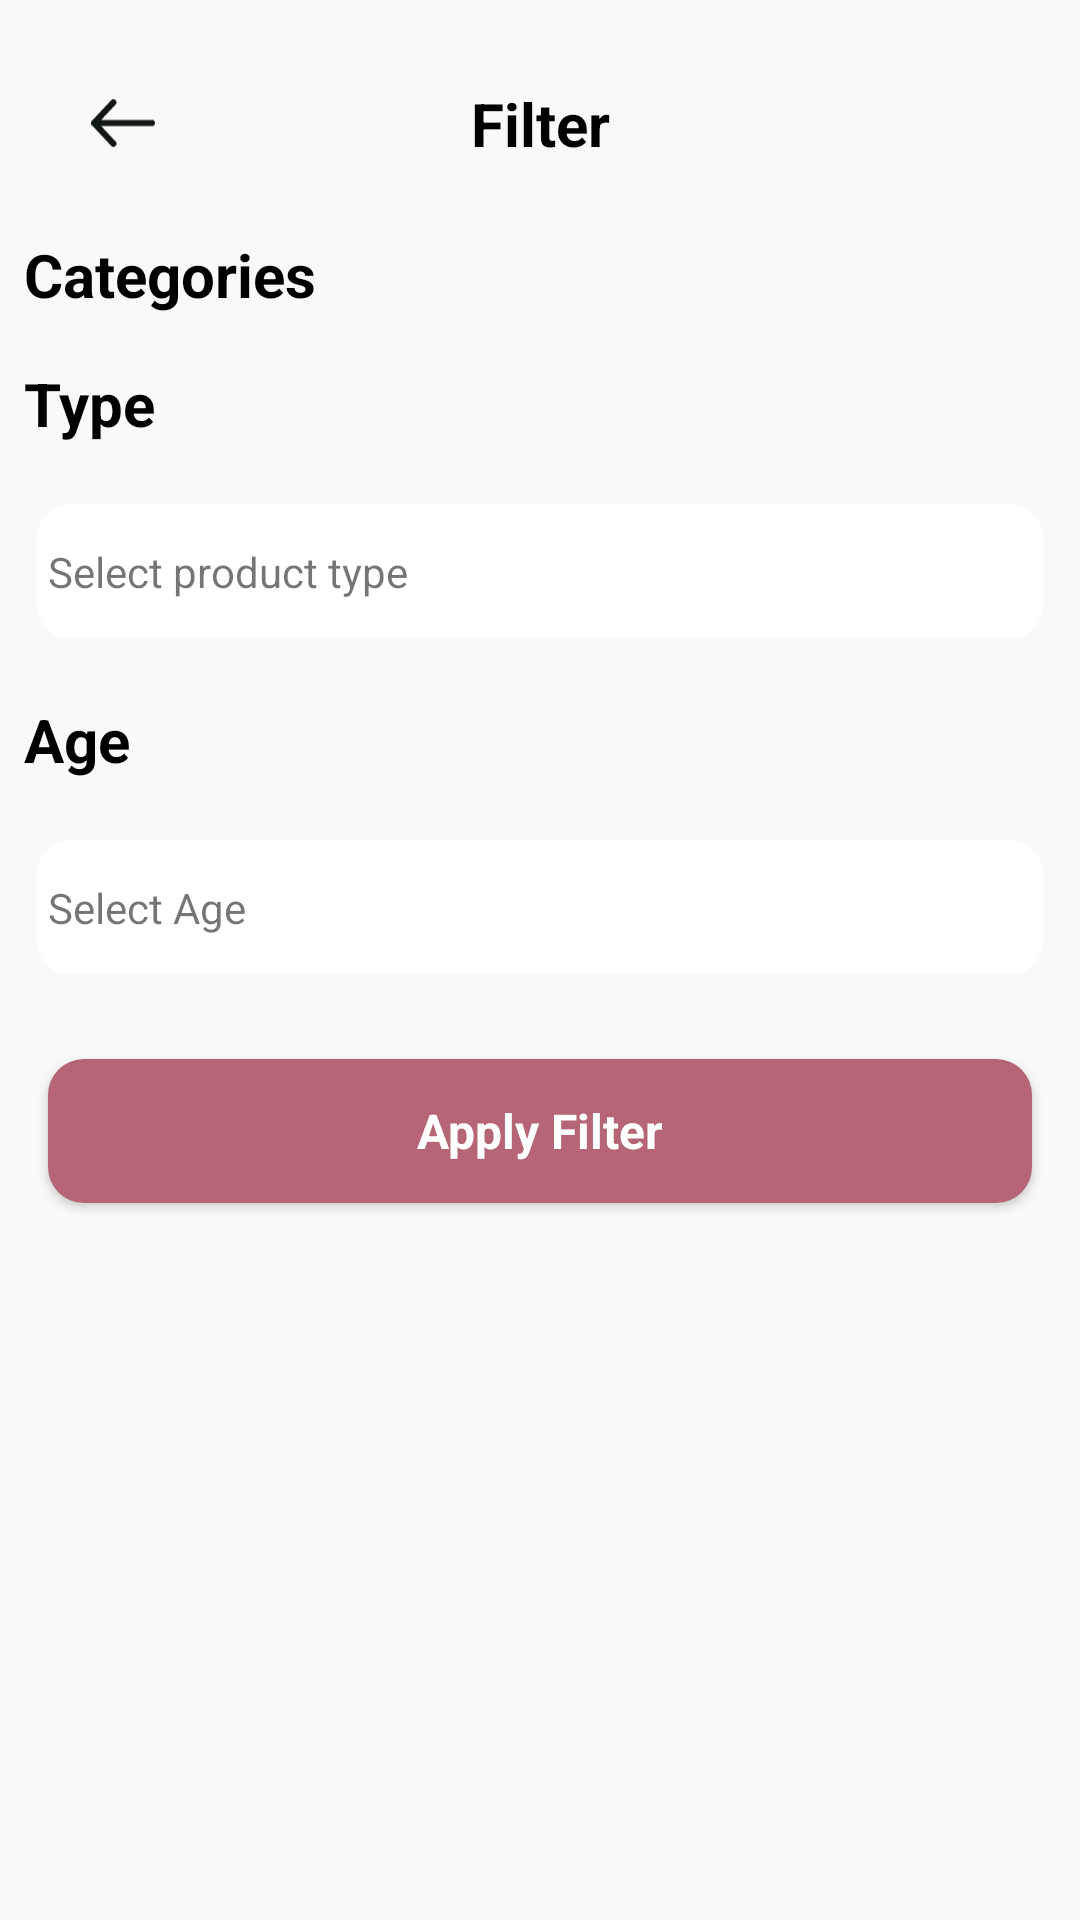

Named icons in this screenshot (1080 × 1920) and their bounding boxes, (x1, y1, x2, y2):
back: (91, 99, 155, 147)
